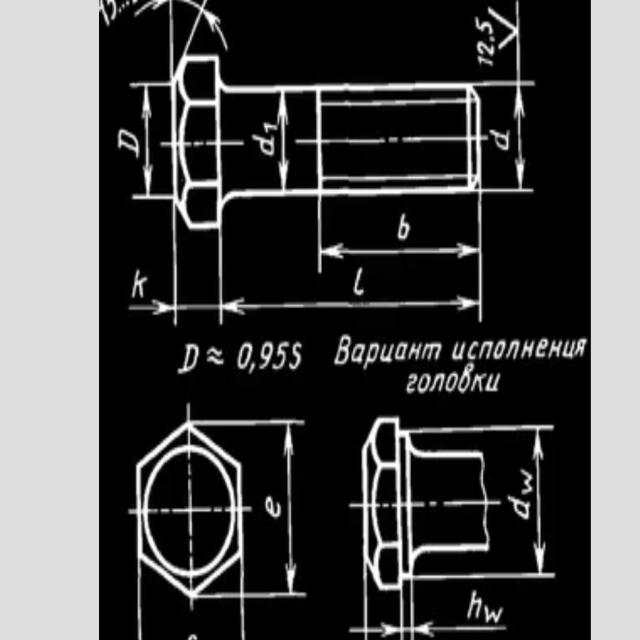marking_line: (131, 230, 484, 320), (217, 231, 486, 320), (315, 197, 483, 273), (246, 418, 306, 603), (492, 423, 558, 581), (485, 77, 535, 195), (126, 211, 179, 321), (408, 584, 508, 638), (133, 0, 232, 54), (128, 81, 169, 201), (420, 425, 561, 448), (419, 560, 560, 581), (347, 593, 404, 639), (275, 92, 292, 189)
numeric: (273, 338, 290, 370), (257, 342, 275, 370), (237, 341, 254, 370), (474, 15, 495, 35), (477, 39, 495, 57), (477, 55, 495, 69), (263, 123, 278, 133)
special_symbol: (488, 8, 516, 53), (205, 347, 225, 367), (488, 36, 495, 42)
